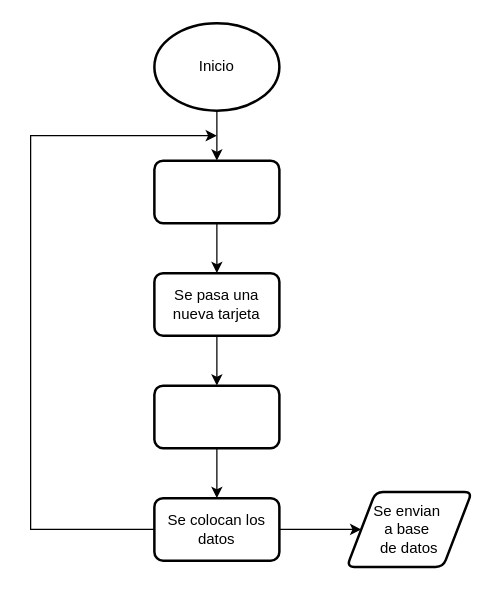
Image size: 495x589. Some labels were removed from this diagram. Here are the shapes that lost their labels. From the top down, the box of each, then its label:
(152, 159, 280, 224): Listo para agregar UID
(152, 384, 280, 449): Activa GUI
